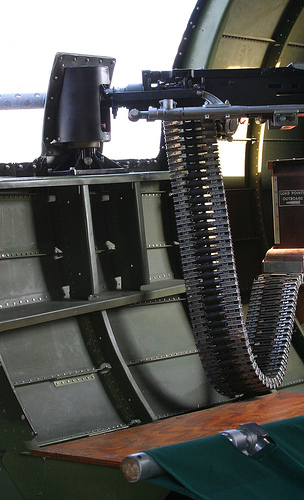rifle: (3, 75, 299, 156)
